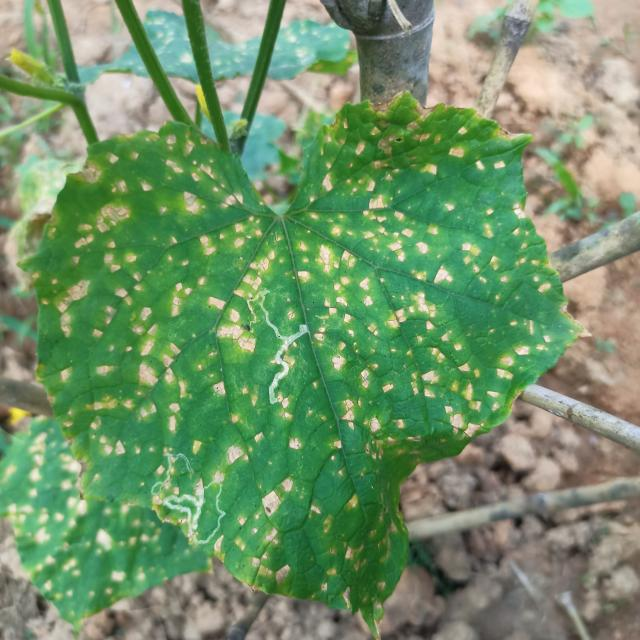disease_cucumber: (40, 122, 527, 579)
